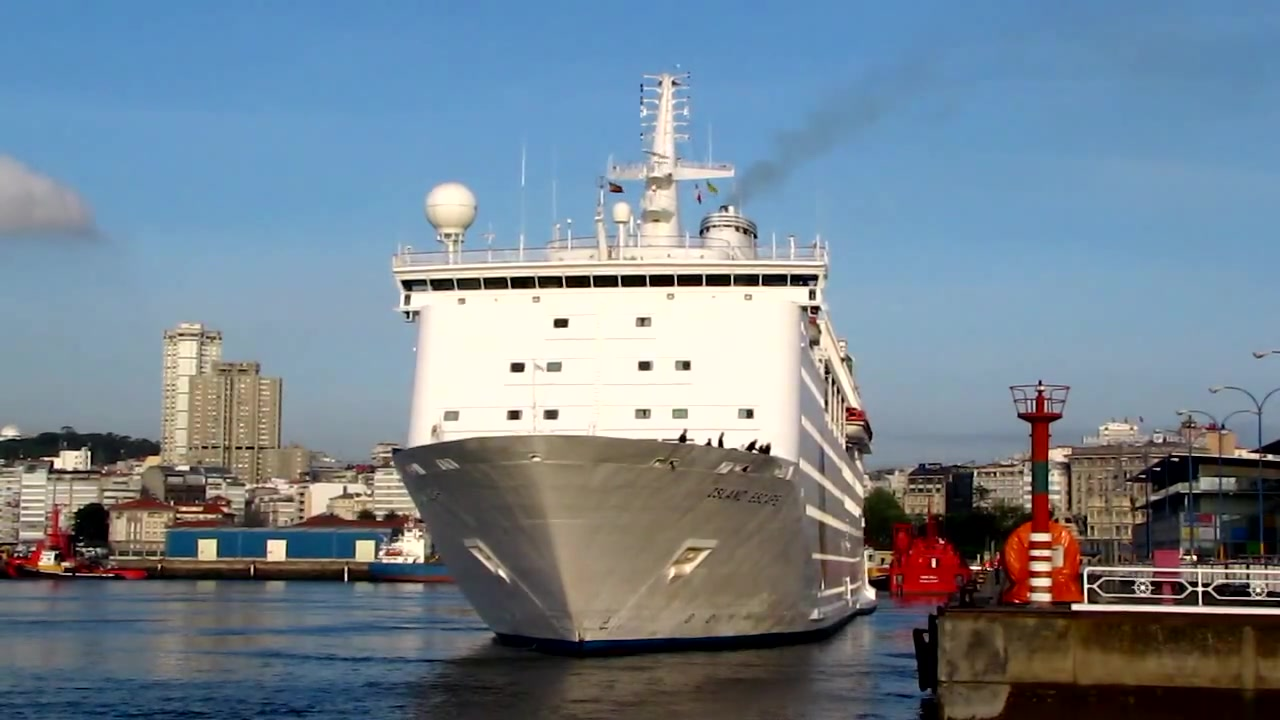boat: (390, 66, 882, 641)
